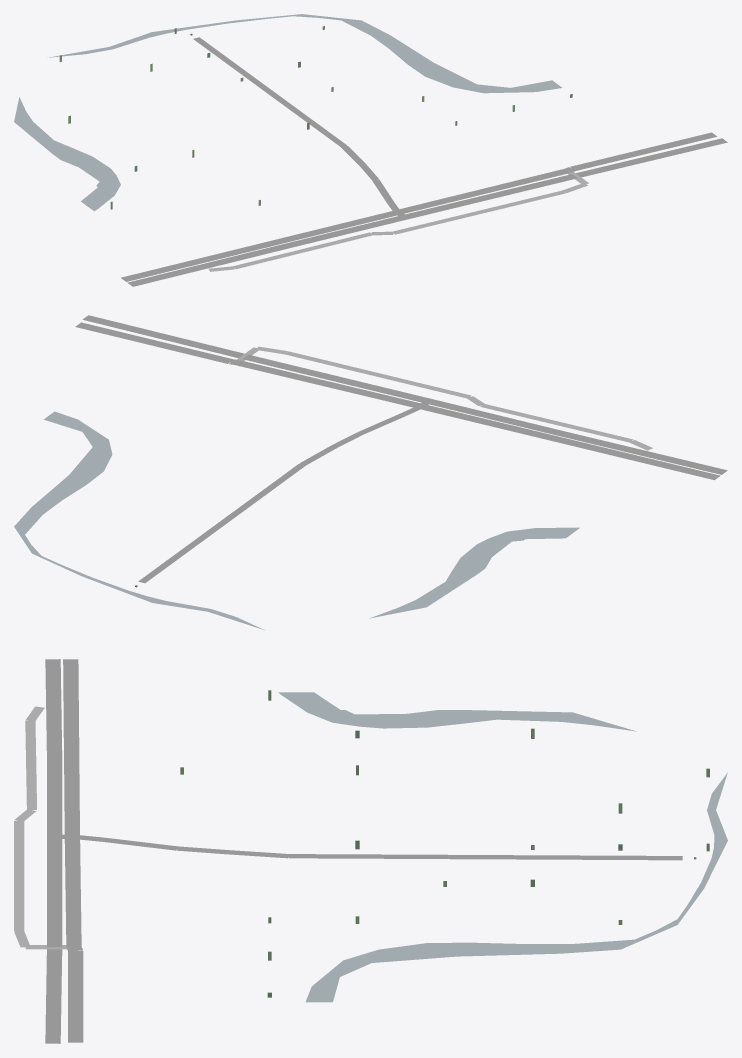
3 views of the same model, one above another, from view 1: azimuth 30°, elevation 25°; view 2: azimuth 150°, elevation 25°; view 3: azimuth 270°, elevation 25° (orthographic). The views are drawn at different scales.
Bounding box in the file's own units: 622 × 9.96 × 489.
